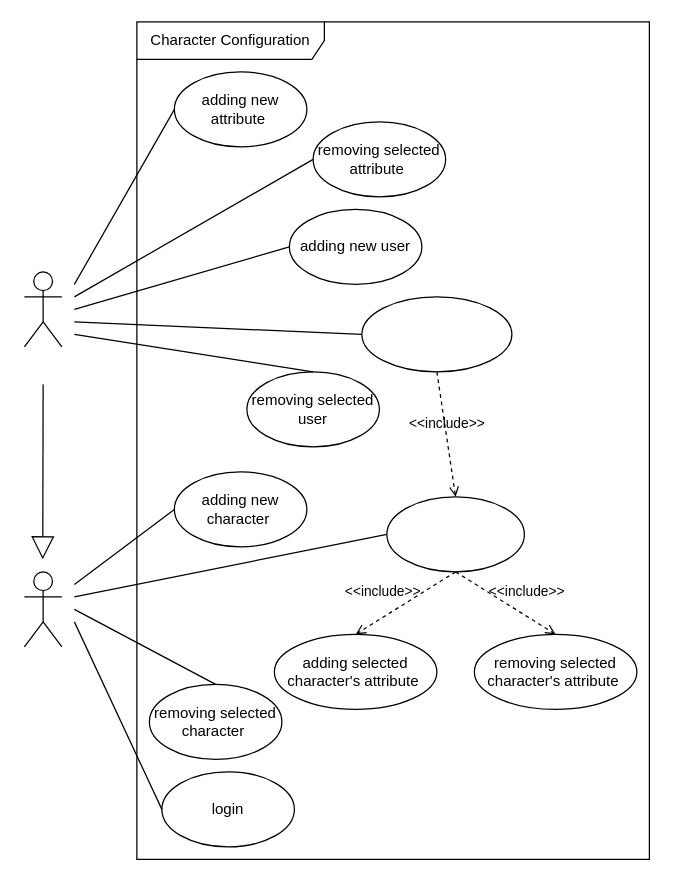
This 673x881 diagram has some shape labels left out. The box of each missing label's shape, as (x1, y1, x2, y2) in pixels:
Admin: (23, 271, 62, 347)
modifying selected character: (386, 496, 524, 572)
modifying selected user: (361, 296, 512, 372)
User: (23, 571, 62, 647)
